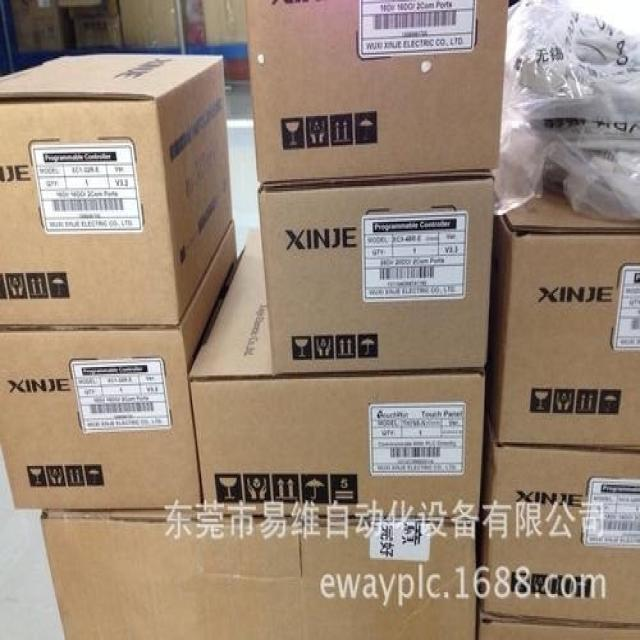box: (192, 227, 485, 519), (0, 221, 238, 510), (0, 55, 231, 328), (41, 511, 476, 638), (248, 2, 509, 186), (259, 179, 493, 375), (484, 174, 639, 451), (483, 397, 639, 626), (477, 616, 639, 638)
